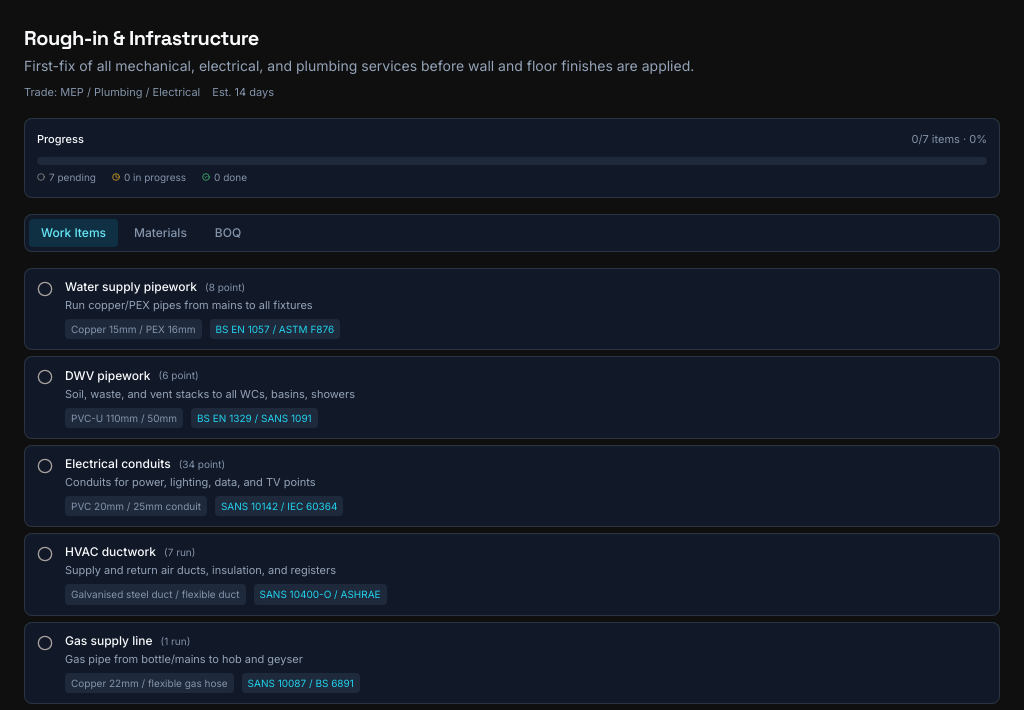
ConstructionPhaseView › renders BOQ tab content
The image size is (1024, 710).
Click the button with test id "tab-bom" at (228, 233), box [203,219,253,247]
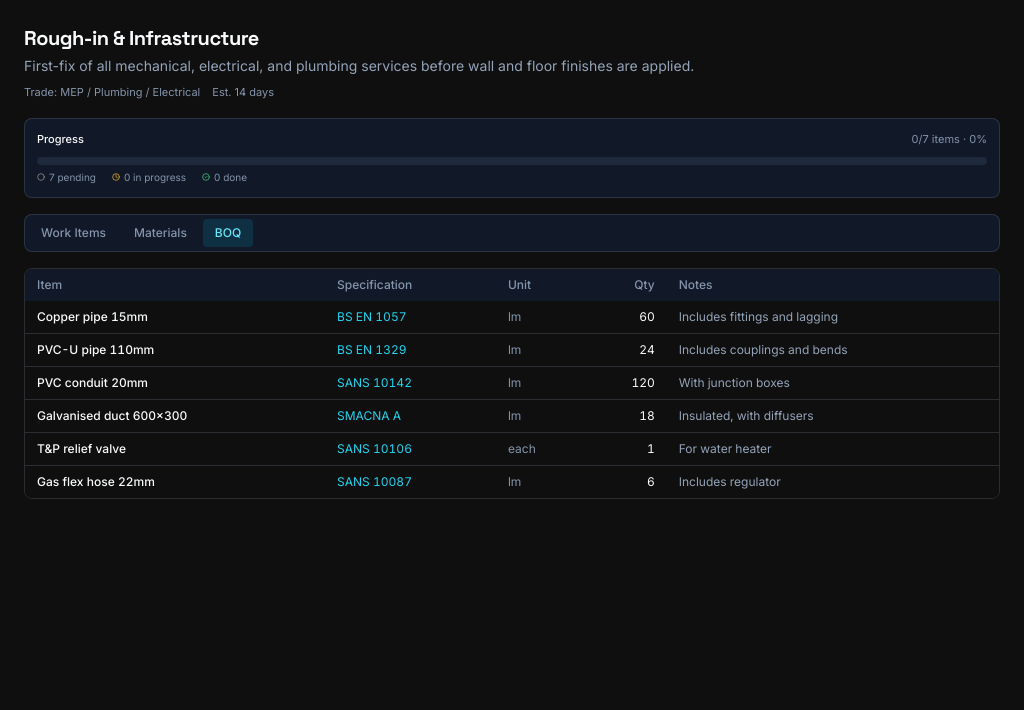
Expected: the text "Copper pipe 15mm" is shown, [25,301,325,334]
Expected: the text "PVC-U pipe 110mm" is shown, [25,334,325,366]
